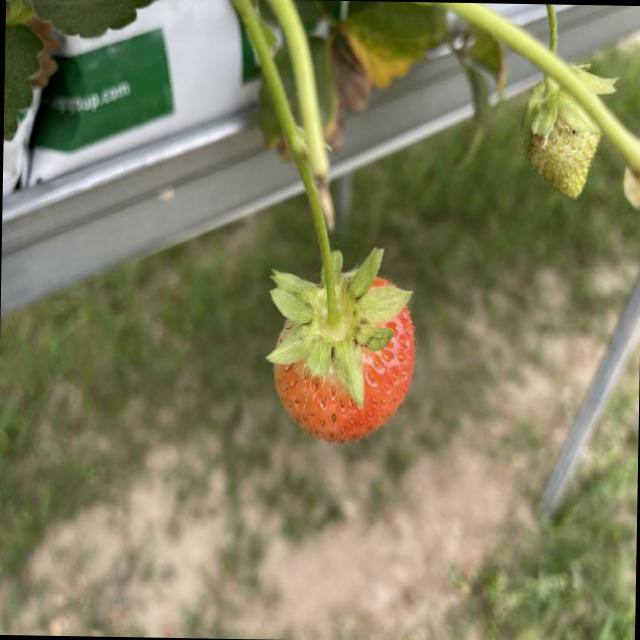stem: (266, 37, 410, 402)
strawberryNR: (524, 119, 596, 197)
strawberryR: (275, 307, 412, 442)
